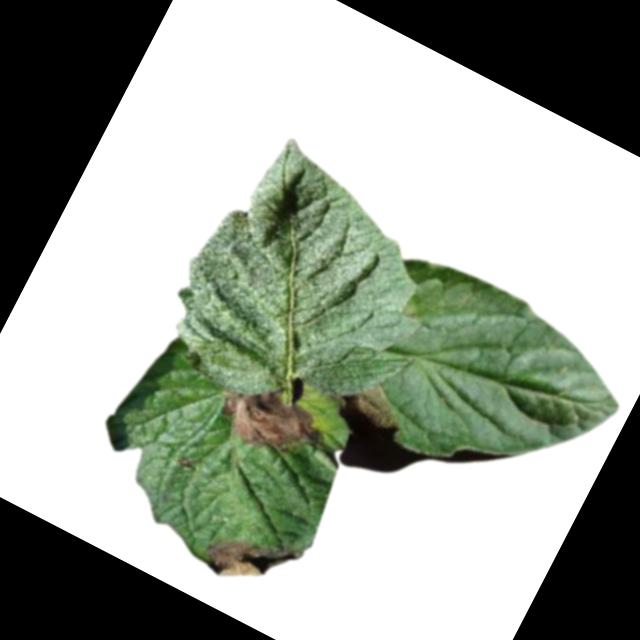Late_blight: (206, 365, 336, 476), (198, 513, 303, 605), (331, 368, 413, 436), (173, 450, 196, 470)
healthy: (142, 119, 478, 457)
